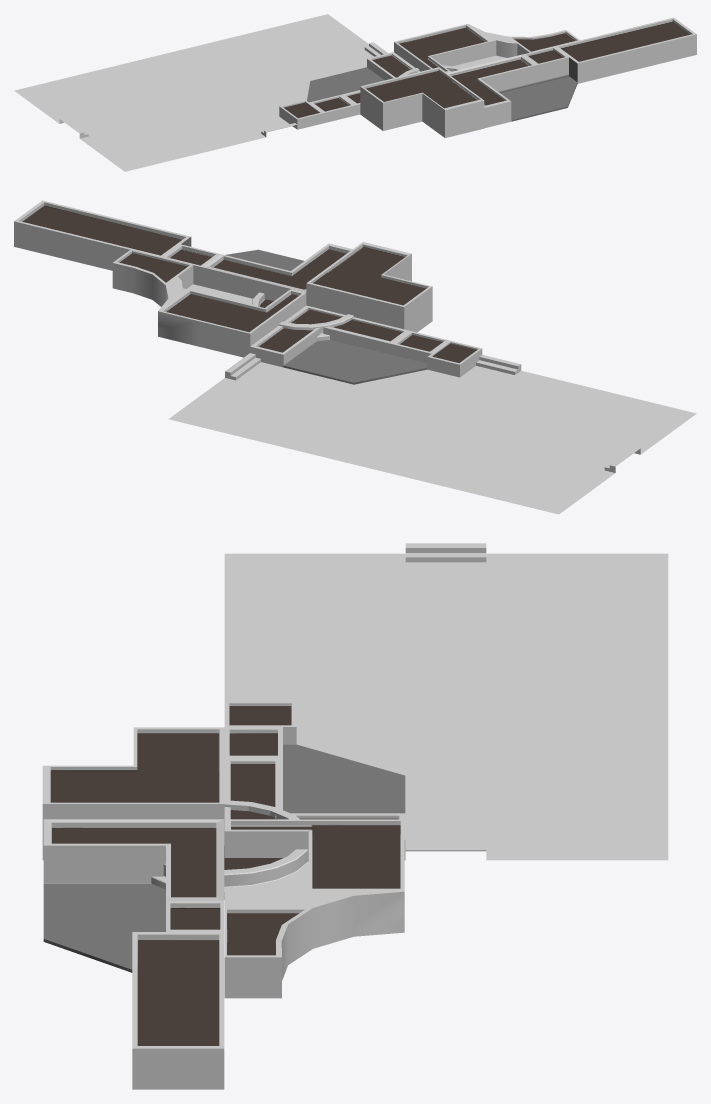
File: BgMD_MoriR2_Fukinuke_0101.fbx
3 renders of one model, top to bottom at view 1: azimuth 30°, elevation 25°; view 2: azimuth 150°, elevation 25°; view 3: azimuth 270°, elevation 25°, orthographic. The views are drawn at different scales.
Parts seen in each view (by area): view 1: polySurface1, pCube1, polySurface4, pCube3, pCube2; view 2: polySurface1, pCube1, pCube2, pCube3, polySurface4, pCylinder1; view 3: polySurface1, pCube1, pCube3, pCube2, polySurface4, pCylinder1.
Part boxes in pixels (x1,y1,x2,y2): polySurface1: [14, 14, 387, 171]; pCube1: [447, 17, 696, 128]; polySurface4: [360, 67, 484, 137]; pCube3: [394, 24, 579, 72]; pCube2: [279, 52, 419, 129]; polySurface1: [168, 353, 696, 514]; pCube1: [14, 200, 352, 300]; pCube2: [250, 305, 482, 384]; pCube3: [112, 250, 306, 357]; polySurface4: [306, 242, 432, 332]; pCylinder1: [252, 292, 353, 341]; polySurface1: [224, 543, 668, 860]; pCube1: [43, 819, 224, 1089]; pCube3: [224, 819, 404, 998]; pCube2: [224, 701, 405, 859]; polySurface4: [42, 727, 224, 860]; pCylinder1: [151, 800, 308, 899].
Size of the model in its own units: 5613 by 274 by 2771.
1 material, 1 textured.
